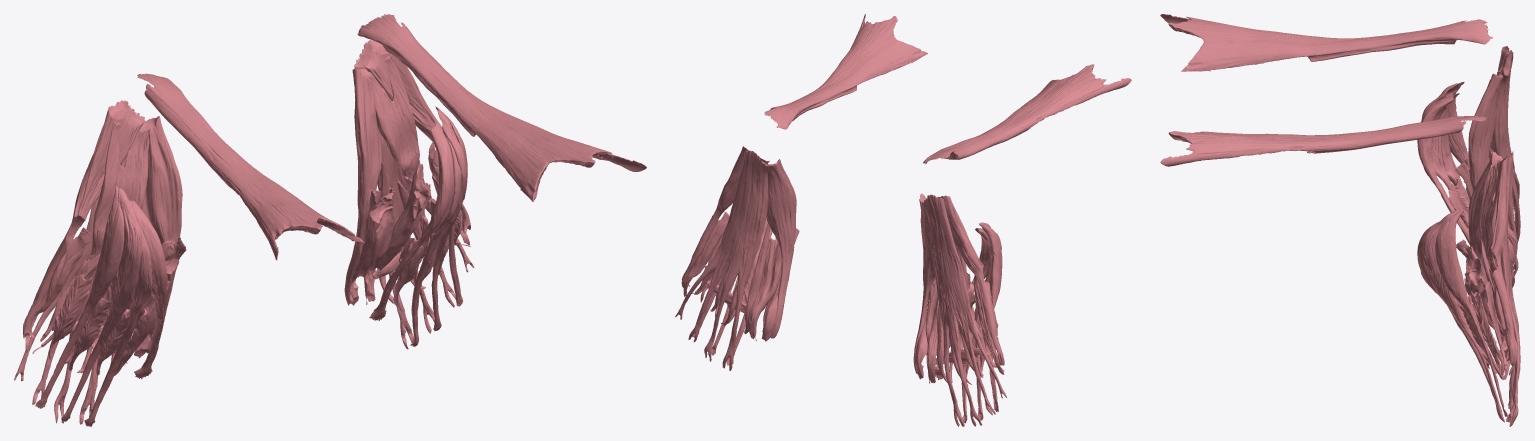
File: pied-muscles.glb
The picture shows the model from 3 angles, left to right: view 1: azimuth 30°, elevation 25°; view 2: azimuth 150°, elevation 25°; view 3: azimuth 270°, elevation 25°; orthographic projection. The views are drawn at different scales.
Visible parts, largest first — view 1: tendon_calcaneen_gauche, tendon_calcaneen_droit, court_extenseur_des_orteils_droit, interosseux_dorsaux_du_pied_ensemble_droit, abducteur_du_petit_orteil_droit, abducteur_de_l_hallux_droit, abducteur_de_l_hallux_gauche, court_extenseur_des_orteils_gauche, carre_plantaire_droit, carre_plantaire_gauche, court_flechisseur_des_orteils_droit, court_flechisseur_des_orteils_gauche (+10 smaller); view 2: court_flechisseur_des_orteils_gauche, court_flechisseur_des_orteils_droit, tendon_calcaneen_gauche, tendon_calcaneen_droit, abducteur_de_l_hallux_gauche, abducteur_du_petit_orteil_droit, court_extenseur_des_orteils_droit, court_flechisseur_de_l_hallux_chef_lateral_gauche, abducteur_du_petit_orteil_gauche, abducteur_de_l_hallux_droit, court_flechisseur_de_l_hallux_chef_lateral_droit, court_flechisseur_du_petit_orteil_gauche (+7 smaller); view 3: tendon_calcaneen_droit, tendon_calcaneen_gauche, court_extenseur_des_orteils_gauche, court_flechisseur_des_orteils_droit, abducteur_du_petit_orteil_gauche, abducteur_de_l_hallux_droit, court_extenseur_des_orteils_droit, court_flechisseur_des_orteils_gauche, court_extenseur_de_l_hallux_droit, abducteur_de_l_hallux_gauche, interosseux_dorsaux_du_pied_ensemble_gauche, carre_plantaire_gauche (+4 smaller).
Boxes of the visible parts, x1,y1,x2,y2 form: tendon_calcaneen_gauche: (357,14,646,201); tendon_calcaneen_droit: (137,73,364,260); court_extenseur_des_orteils_droit: (35,184,152,426); interosseux_dorsaux_du_pied_ensemble_droit: (49,274,155,375); abducteur_du_petit_orteil_droit: (23,105,145,338); abducteur_de_l_hallux_droit: (141,116,182,353); abducteur_de_l_hallux_gauche: (344,68,381,305); court_extenseur_des_orteils_gauche: (410,106,467,346); carre_plantaire_droit: (90,120,152,254); carre_plantaire_gauche: (363,54,419,175); court_flechisseur_des_orteils_droit: (14,100,144,426); court_flechisseur_des_orteils_gauche: (354,40,474,349); court_flechisseur_des_orteils_gauche: (675,150,769,370); court_flechisseur_des_orteils_droit: (920,194,1006,426); tendon_calcaneen_gauche: (764,14,927,129); tendon_calcaneen_droit: (923,64,1131,164); abducteur_de_l_hallux_gauche: (766,159,796,338); abducteur_du_petit_orteil_droit: (937,195,1004,365); court_extenseur_des_orteils_droit: (961,222,1002,423); court_flechisseur_de_l_hallux_chef_lateral_gauche: (748,236,781,340); abducteur_du_petit_orteil_gauche: (681,146,769,287); abducteur_de_l_hallux_droit: (913,193,935,374); court_flechisseur_de_l_hallux_chef_lateral_droit: (925,278,938,383); court_flechisseur_du_petit_orteil_gauche: (683,211,729,296); tendon_calcaneen_droit: (1160,14,1492,71); tendon_calcaneen_gauche: (1160,116,1492,166); court_extenseur_des_orteils_gauche: (1419,209,1507,422); court_flechisseur_des_orteils_droit: (1491,50,1520,287); abducteur_du_petit_orteil_gauche: (1490,157,1515,364); abducteur_de_l_hallux_droit: (1468,73,1503,190); court_extenseur_des_orteils_droit: (1421,81,1468,217); court_flechisseur_des_orteils_gauche: (1501,151,1520,426); court_extenseur_de_l_hallux_droit: (1417,93,1469,244); abducteur_de_l_hallux_gauche: (1468,152,1502,339); interosseux_dorsaux_du_pied_ensemble_gauche: (1454,291,1504,379); carre_plantaire_gauche: (1479,162,1501,266).
Bounding box in the file's own units: 278 × 205 × 231.
